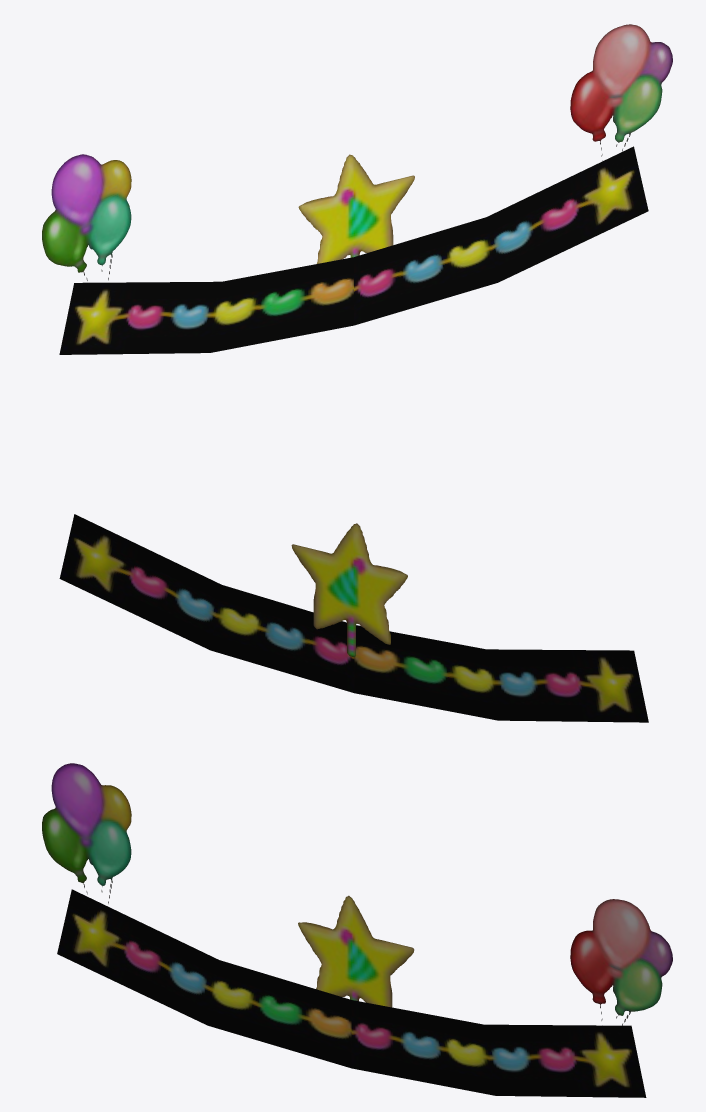
Rendered from bean_banner.glb.
3 renders of one model, top to bottom at view 1: azimuth 30°, elevation 25°; view 2: azimuth 150°, elevation 25°; view 3: azimuth 330°, elevation 25°, orthographic.
Parts seen in each view (by area): view 1: banner1, balloonsRMesh, balloonsLMesh, bannerJoint; view 2: banner1, bannerJoint; view 3: banner1, balloonsRMesh, balloonsLMesh, bannerJoint.
Boxes of the visible parts, x1,y1,x2,y2 form: banner1: (59, 146, 648, 354); balloonsRMesh: (570, 24, 672, 160); balloonsLMesh: (42, 154, 131, 280); bannerJoint: (298, 154, 414, 263); banner1: (59, 514, 648, 722); bannerJoint: (291, 523, 407, 657); banner1: (57, 889, 646, 1097); balloonsRMesh: (570, 899, 672, 1025); balloonsLMesh: (42, 763, 131, 903); bannerJoint: (298, 895, 414, 1007).
Bounding box in the file's own units: 14.16 × 5.15 × 0.0427.
3 materials, 3 textured.
